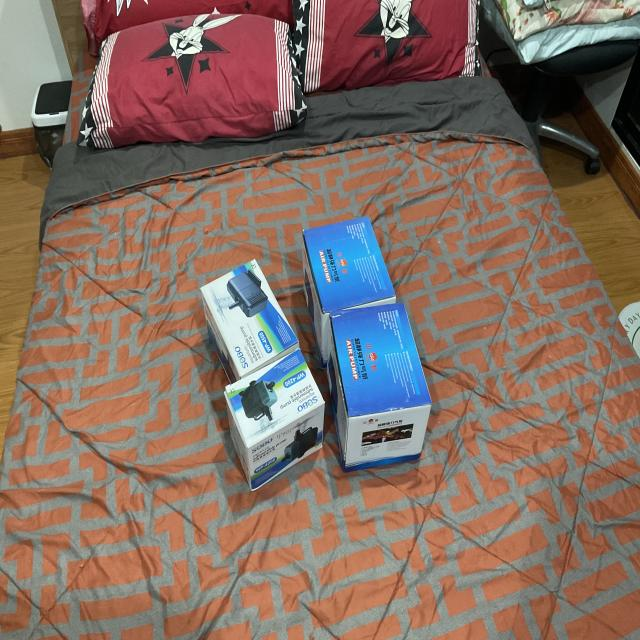SOBO_WP_4200: (216, 350, 328, 514), (189, 246, 305, 374)
YAMANO_LPP_20: (329, 298, 450, 496), (301, 204, 409, 367)
